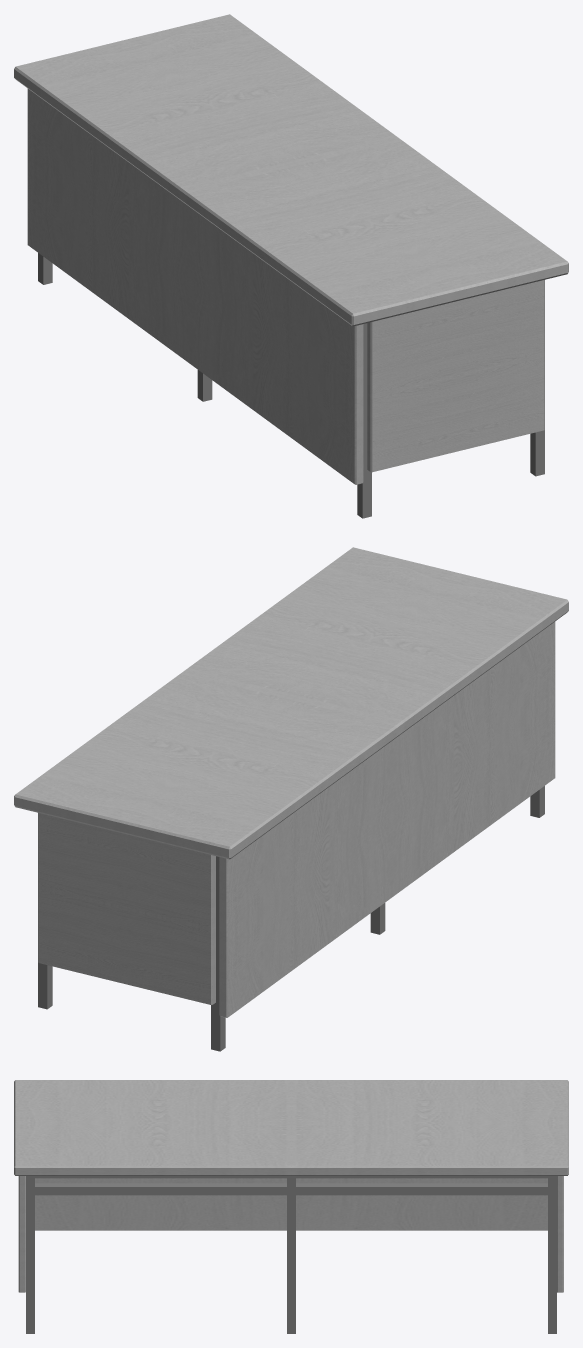
Rendered from Biurko.fbx.
3 renders of one model, top to bottom at view 1: azimuth 30°, elevation 25°; view 2: azimuth 150°, elevation 25°; view 3: azimuth 270°, elevation 25°, orthographic. The views are drawn at different scales.
Visible parts, largest first — view 1: Desk; view 2: Desk; view 3: Desk.
Boxes of the visible parts, bbox=[...] form: Desk: bbox=[14, 14, 568, 518]; Desk: bbox=[14, 547, 568, 1051]; Desk: bbox=[14, 1080, 568, 1333].
Size of the model in its own units: 222 by 208 by 600.
Materials: 2 (1 with a texture image).
